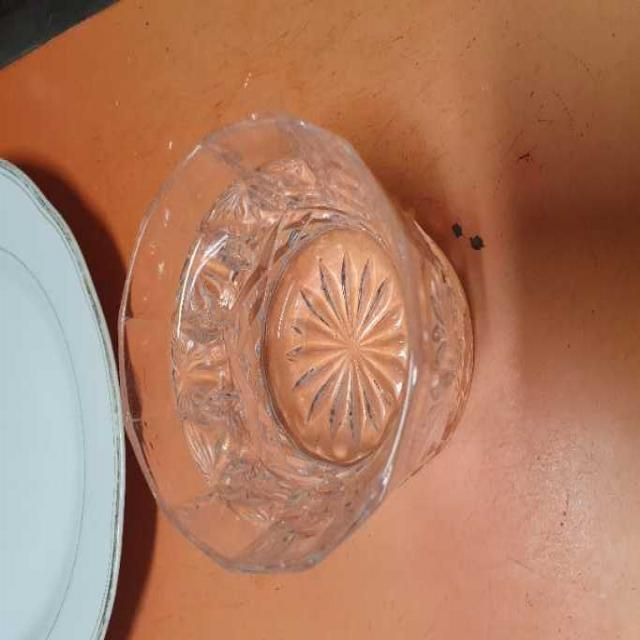water: (136, 137, 474, 559)
